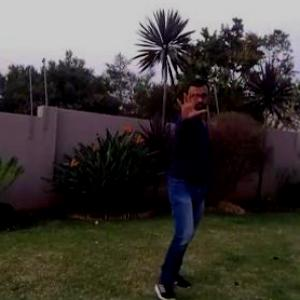follow_hand: (174, 87, 210, 122)
